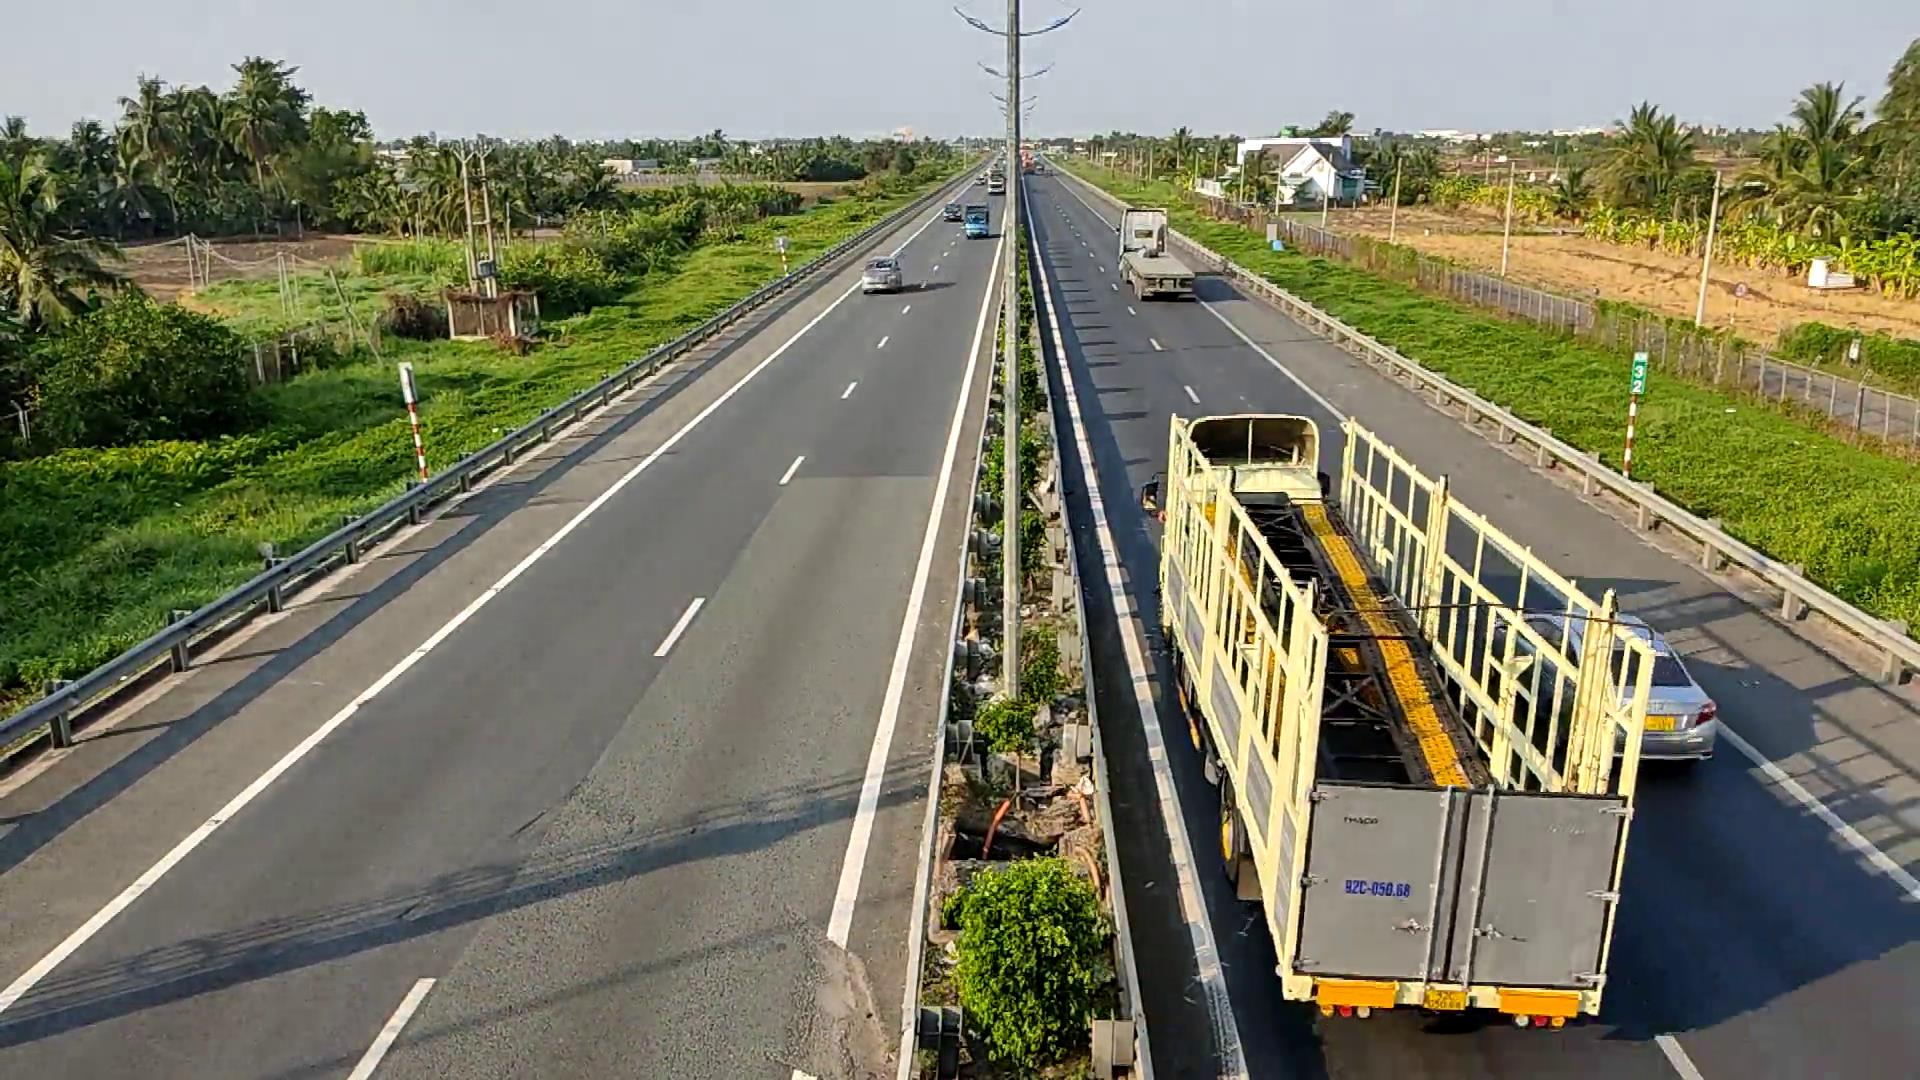container: (1147, 410, 1716, 1029)
